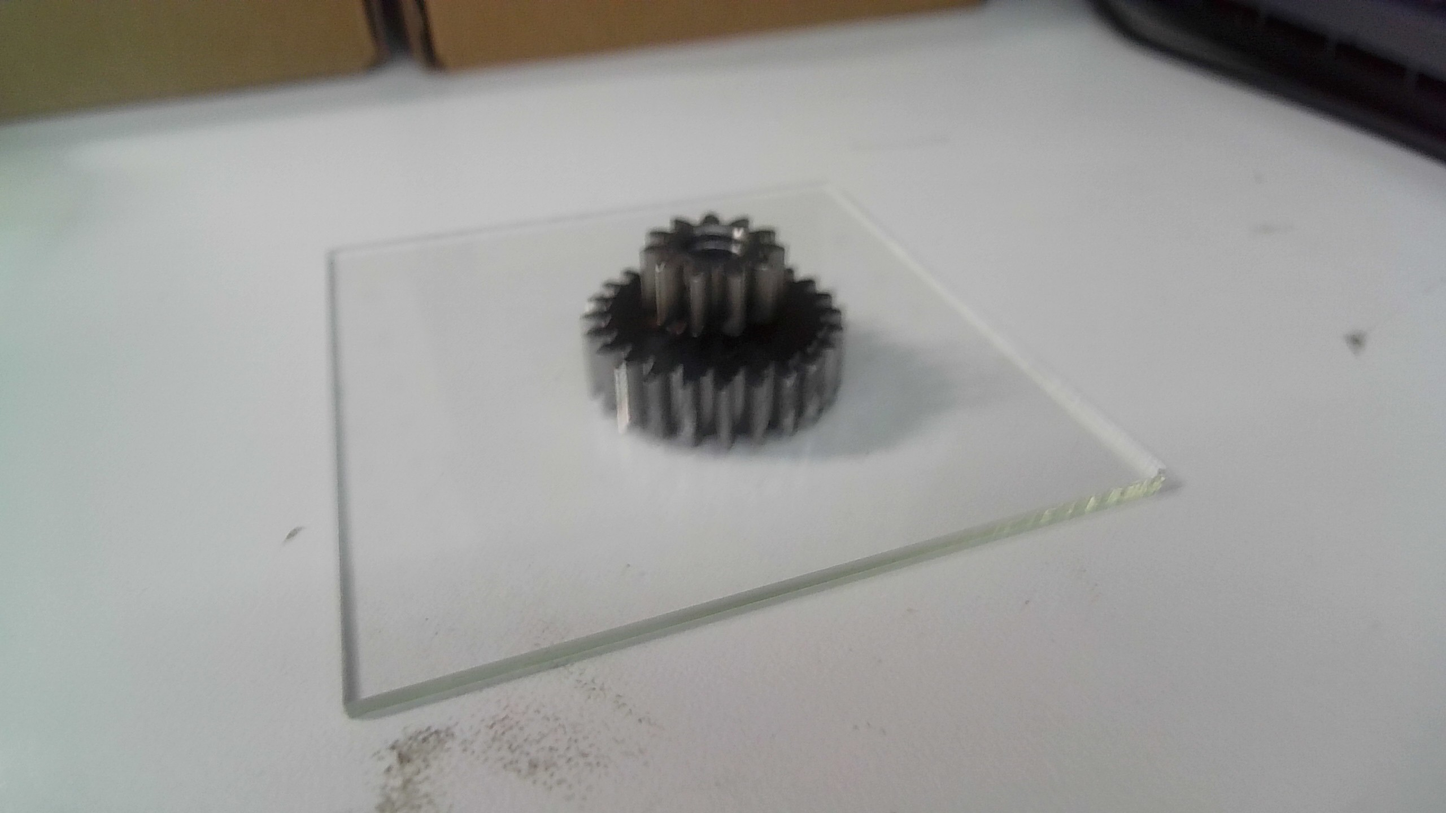gear: (578, 209, 849, 458)
